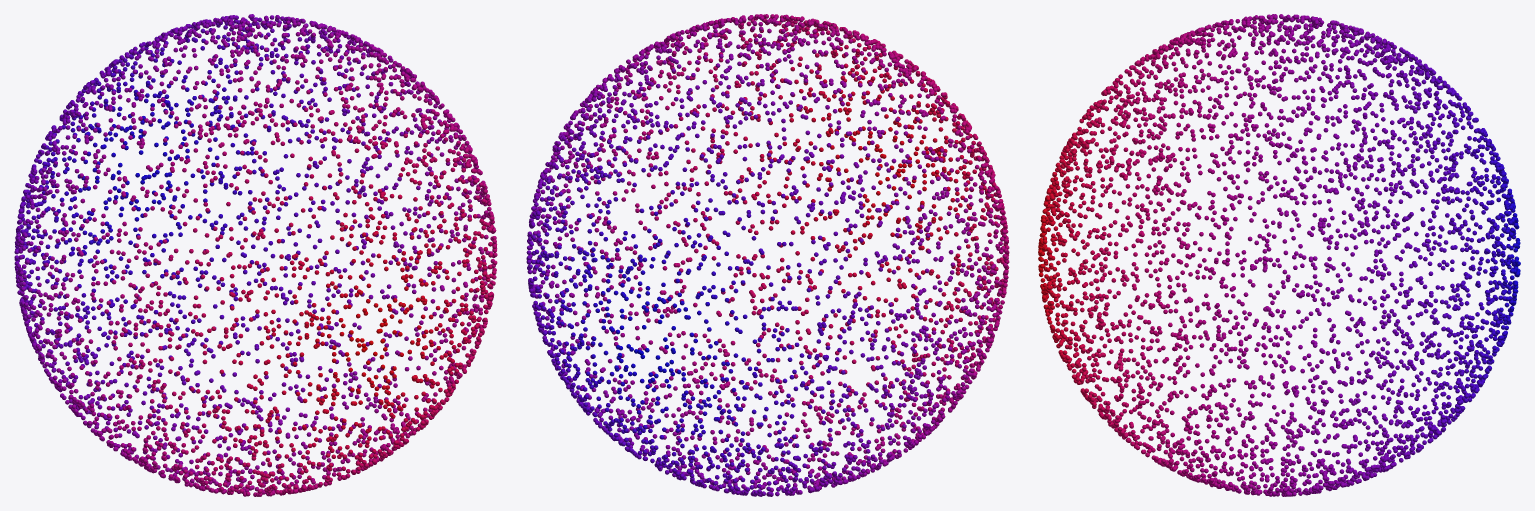
The model's file is fsaverage_lh_geodesic.glb.
3 renders of one model, left to right at view 1: azimuth 30°, elevation 25°; view 2: azimuth 150°, elevation 25°; view 3: azimuth 270°, elevation 25°, orthographic.
Visible parts, largest first — view 1: world; view 2: world; view 3: world.
Part boxes in pixels (x1,y1,x2,y2): world: [14, 14, 497, 496]; world: [526, 14, 1009, 496]; world: [1038, 14, 1520, 496].
Size of the model in its own units: 202 by 202 by 202.
